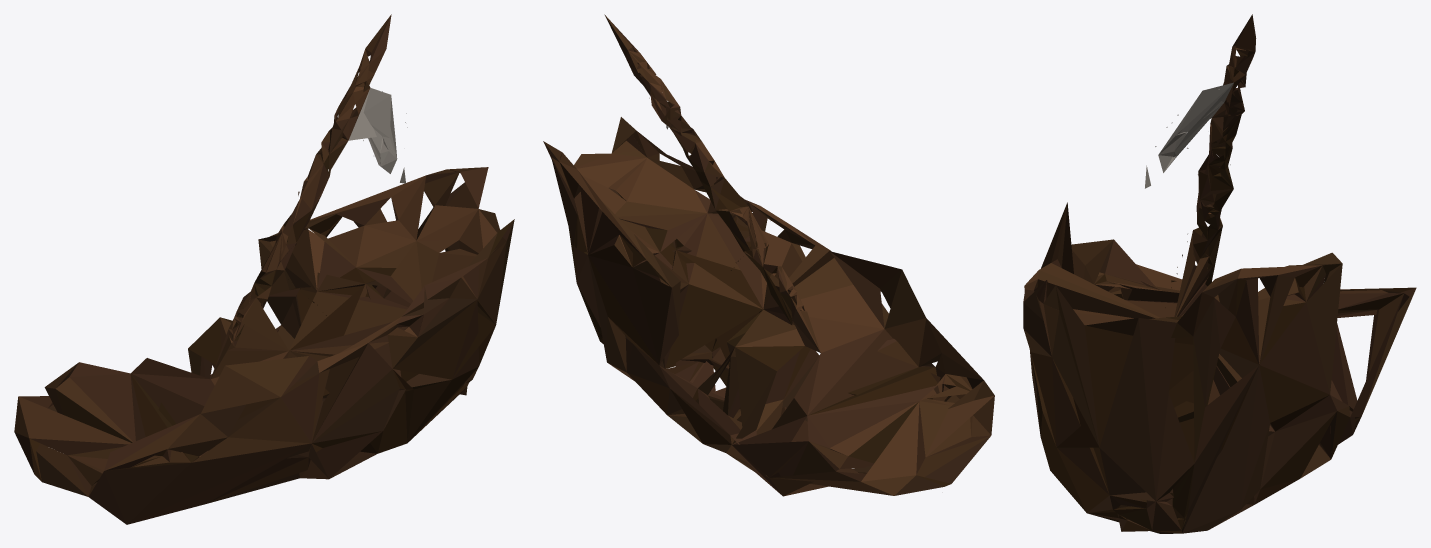
File: wreck-lod1.glb
The picture shows the model from 3 angles, left to right: view 1: azimuth 30°, elevation 25°; view 2: azimuth 150°, elevation 25°; view 3: azimuth 270°, elevation 25°; orthographic projection. The views are drawn at different scales.
Visible parts, largest first — view 1: wreck-lod1; view 2: wreck-lod1; view 3: wreck-lod1.
Part boxes in pixels (left/top/right/bottom): wreck-lod1: left=14, top=14, right=514, bottom=524; wreck-lod1: left=543, top=14, right=994, bottom=496; wreck-lod1: left=1023, top=14, right=1416, bottom=533.
Size of the model in its own units: 12.85 by 12.44 by 7.27.
